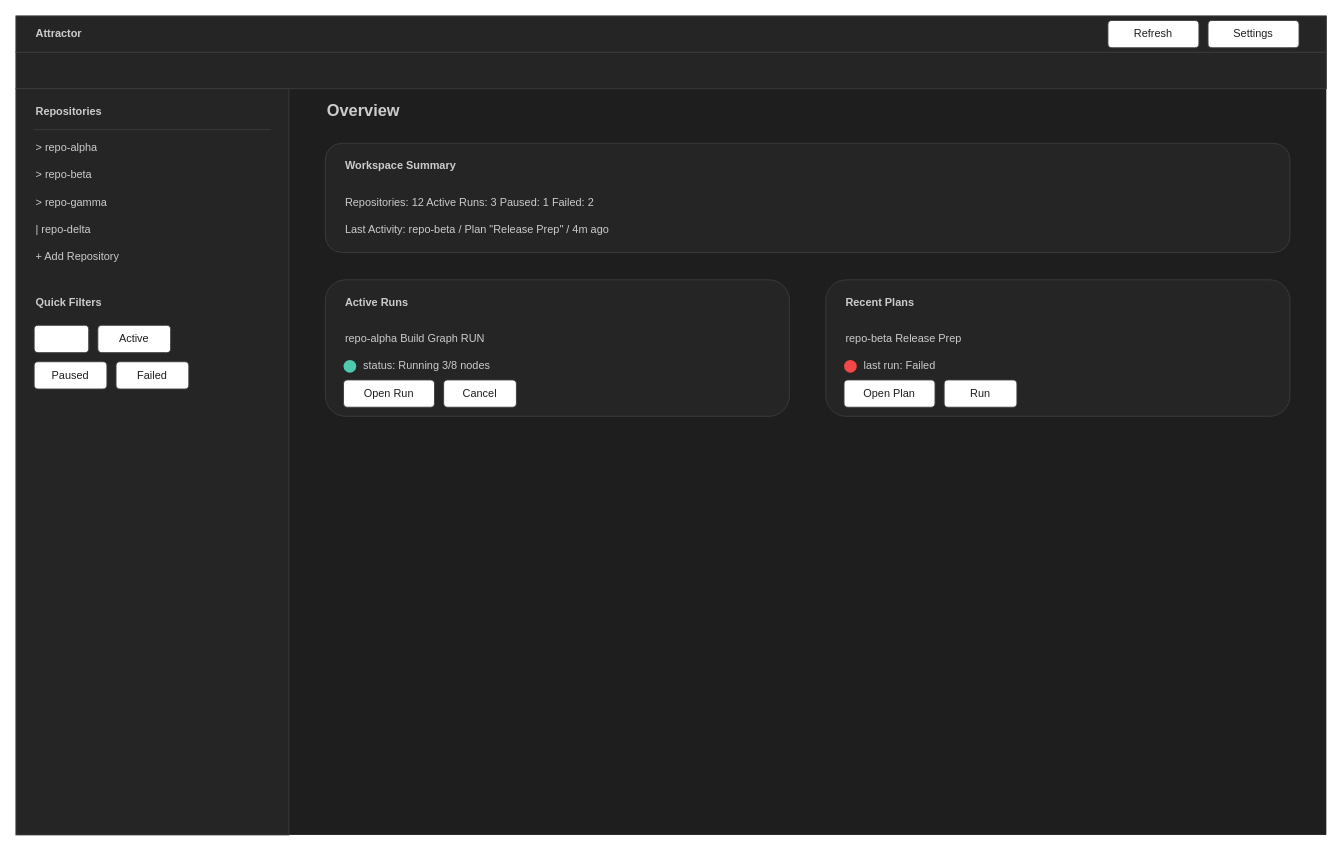
Image size: 1342x851. Some labels were removed from this diagram. Each missing label, with the box of its shape:
All: (33, 324, 89, 353)
Search repos / runs...: (15, 51, 1326, 89)
